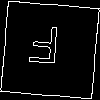F: (25, 24, 62, 74)
